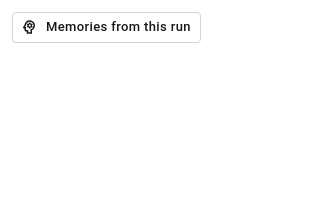
Test: RunMemoriesButton › offers a menu when it wrote to several
The image size is (332, 201).
Click the button "Memories from this run" at (106, 27), box [12,12,201,43]
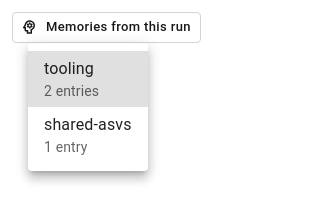
Click the menu item "shared-asvs 1 entry" at (88, 135), box [44,115,132,155]
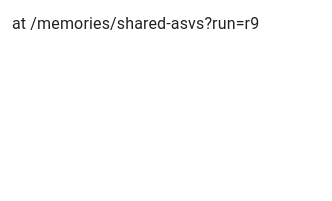
Result: the text "at /memories/shared-asvs?run=r9" is shown at [12,14,259,33]
